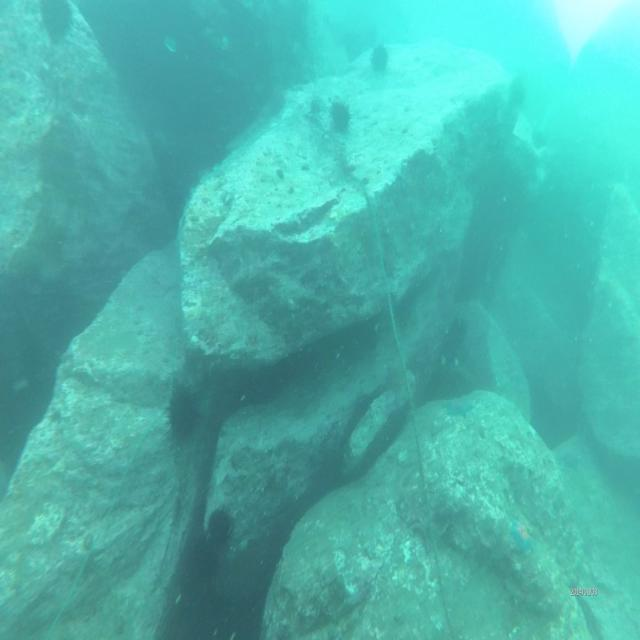echinus: (169, 380, 202, 443), (206, 504, 237, 560), (328, 96, 352, 132), (369, 40, 391, 75)
starfish: (507, 511, 542, 566), (445, 384, 477, 424)
